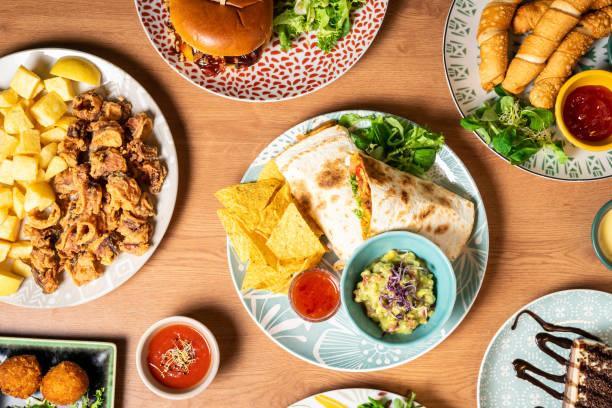Braised Crucian Carp: (228, 107, 482, 370), (2, 46, 180, 310), (447, 0, 612, 184), (131, 0, 384, 104)
